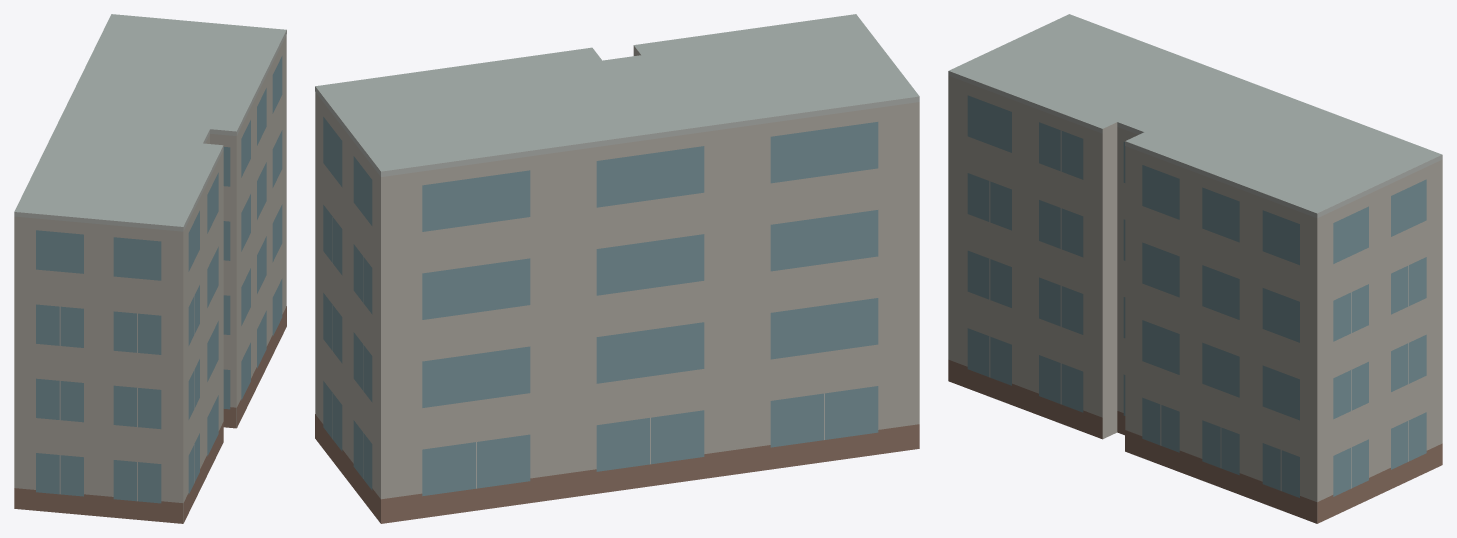
Rendered from survey-upis-32993233.glb.
3 views of the same model, side by side, from view 1: azimuth 30°, elevation 25°; view 2: azimuth 150°, elevation 25°; view 3: azimuth 270°, elevation 25° (orthographic). The views are drawn at different scales.
Visible parts, largest first — view 1: survey-upis-32993233.tmp; view 2: survey-upis-32993233.tmp; view 3: survey-upis-32993233.tmp.
Boxes of the visible parts, x1=… form: survey-upis-32993233.tmp: x1=14, y1=14, x2=286, y2=523; survey-upis-32993233.tmp: x1=315, y1=14, x2=919, y2=523; survey-upis-32993233.tmp: x1=948, y1=14, x2=1442, y2=523.
Size of the model in its own units: 21.51 by 15.6 by 22.51.
